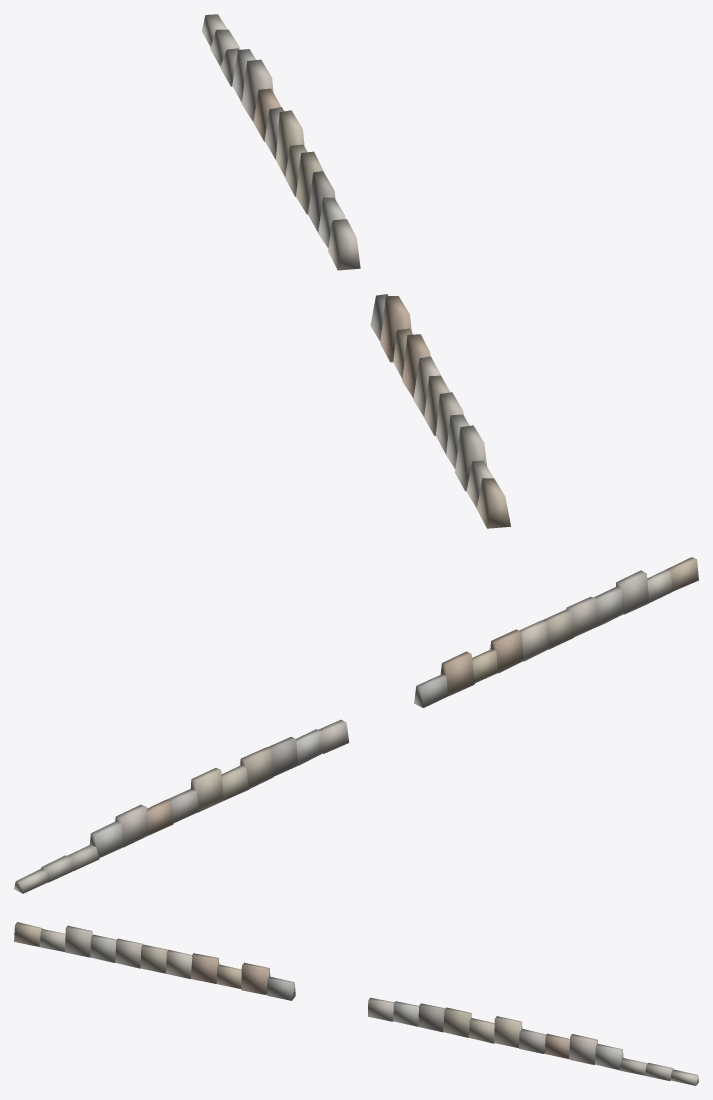
Rendered from farm_12_7_far.glb.
3 renders of one model, top to bottom at view 1: azimuth 30°, elevation 25°; view 2: azimuth 150°, elevation 25°; view 3: azimuth 270°, elevation 25°, orthographic. The views are drawn at different scales.
Parts seen in each view (by area): view 1: geometry_0; view 2: geometry_0; view 3: geometry_0.
Part boxes in pixels (x1,y1,x2,y2): geometry_0: (202, 14, 510, 528); geometry_0: (14, 557, 698, 893); geometry_0: (14, 922, 698, 1085).
Bounding box in the file's own units: 13.91 × 4.42 × 39.95.
